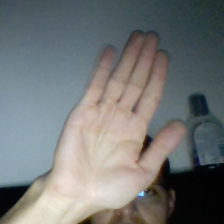left: (42, 24, 184, 214)
